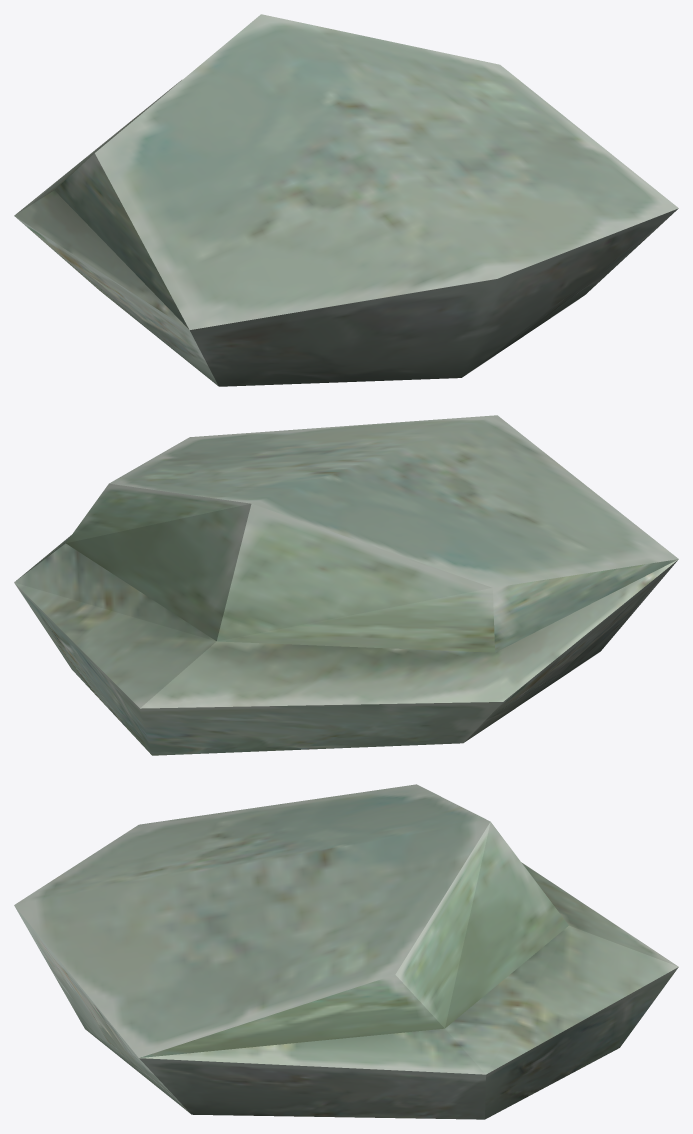
File: FB_ZhuLinXiaoXi_Shitou05.FBX
3 renders of one model, top to bottom at view 1: azimuth 30°, elevation 25°; view 2: azimuth 150°, elevation 25°; view 3: azimuth 270°, elevation 25°, orthographic.
Parts seen in each view (by area): view 1: Box52; view 2: Box52; view 3: Box52.
Part boxes in pixels (x1,y1,x2,y2): Box52: (14, 14, 678, 386); Box52: (14, 415, 678, 755); Box52: (14, 784, 678, 1119).
Size of the model in its own units: 15.08 by 6.26 by 17.95.
